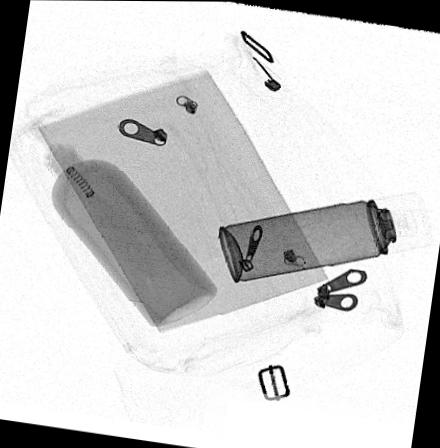Sprayer: (217, 190, 434, 283)
